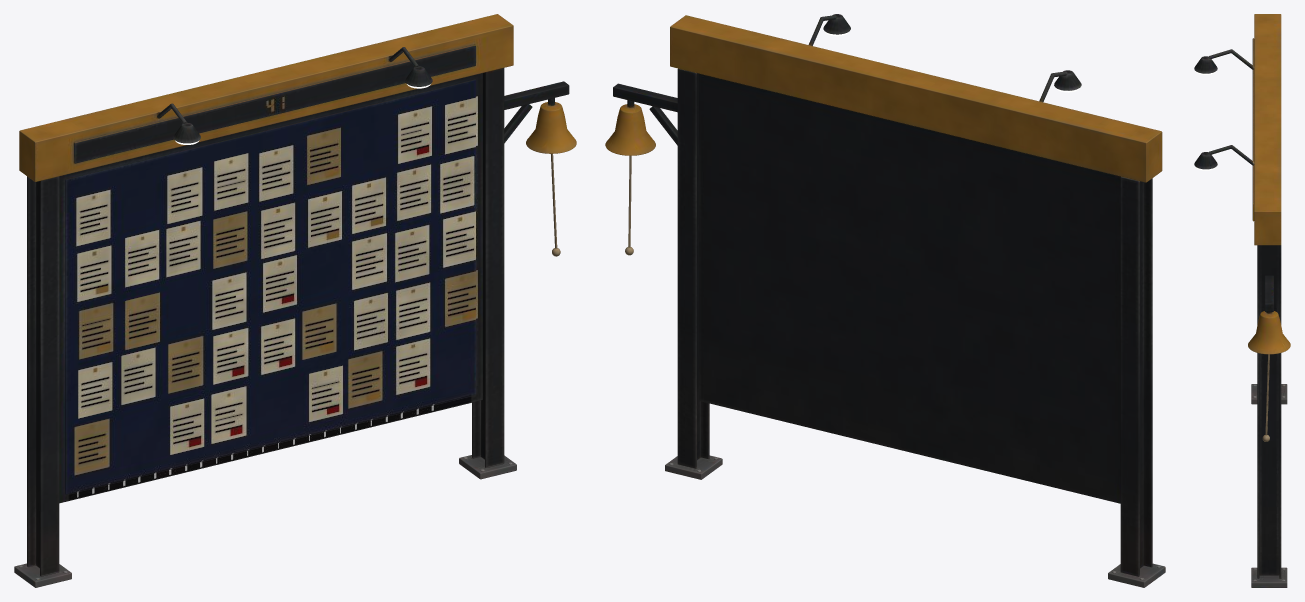
Rendered from exchange_board.glb.
3 renders of one model, left to right at view 1: azimuth 30°, elevation 25°; view 2: azimuth 150°, elevation 25°; view 3: azimuth 270°, elevation 25°, orthographic. The views are drawn at different scales.
Visible parts, largest first — view 1: exchange_board; view 2: exchange_board; view 3: exchange_board.
Boxes of the visible parts, <box> form: exchange_board: <box>14,14,576,587</box>; exchange_board: <box>605,14,1165,587</box>; exchange_board: <box>1194,14,1290,587</box>.
Size of the model in its own units: 3.55 by 2.86 by 0.6403.
Materials: 2 (2 with a texture image).
